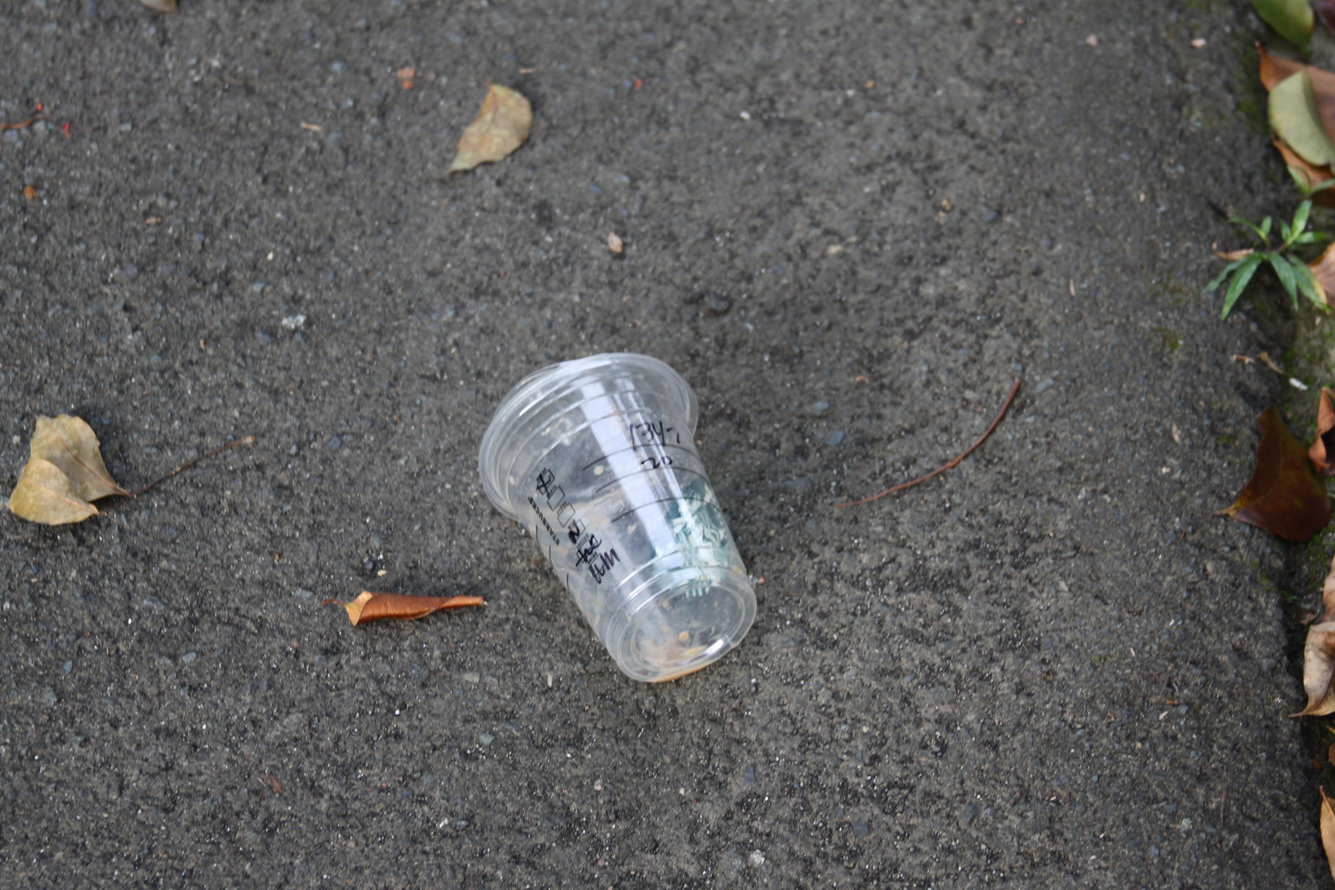Plastic: (477, 350, 761, 688)
